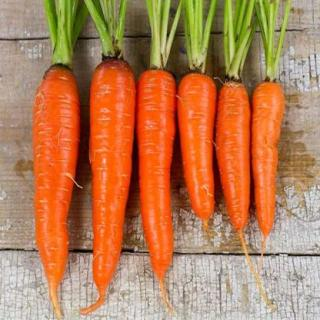Wortel: (88, 54, 136, 300), (33, 64, 81, 291), (135, 68, 176, 283), (177, 73, 217, 221)
